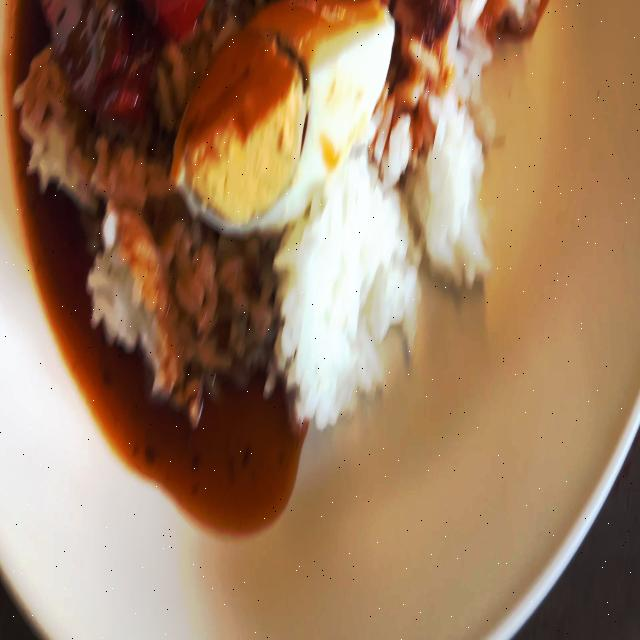boiled_egg: (166, 0, 397, 236)
red_pork: (47, 0, 209, 112), (42, 0, 134, 92), (144, 0, 203, 47)
red_pork_and_crispy_pork: (15, 0, 542, 428)
rice: (284, 186, 420, 414), (87, 197, 210, 413), (404, 107, 512, 282), (19, 46, 84, 205)
